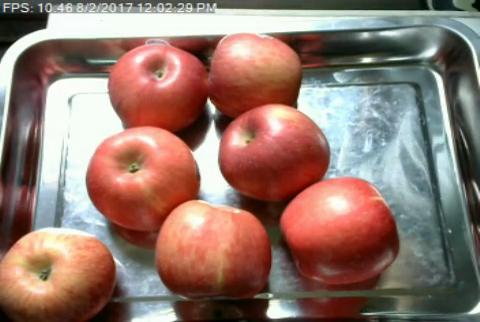apple: (282, 179, 401, 285), (87, 127, 200, 228), (157, 201, 272, 300), (218, 104, 331, 199), (0, 231, 114, 321), (109, 45, 207, 131), (211, 35, 300, 113)
